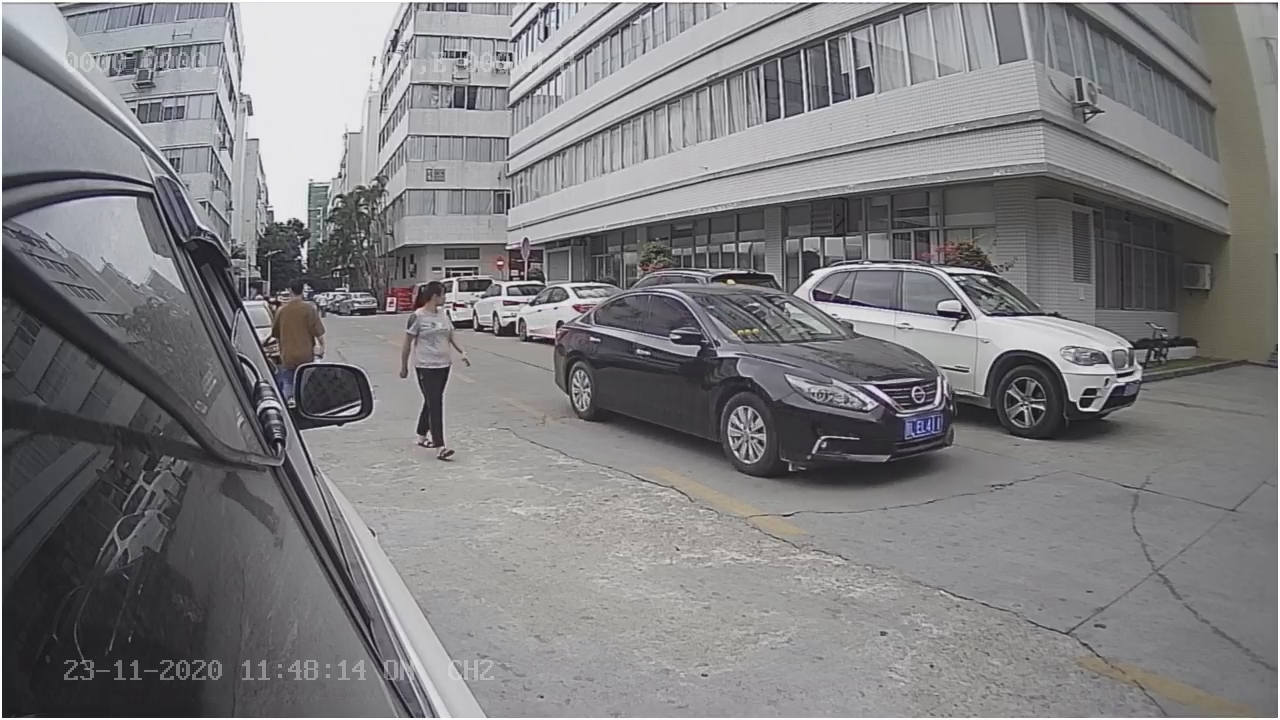person: (398, 282, 472, 458)
